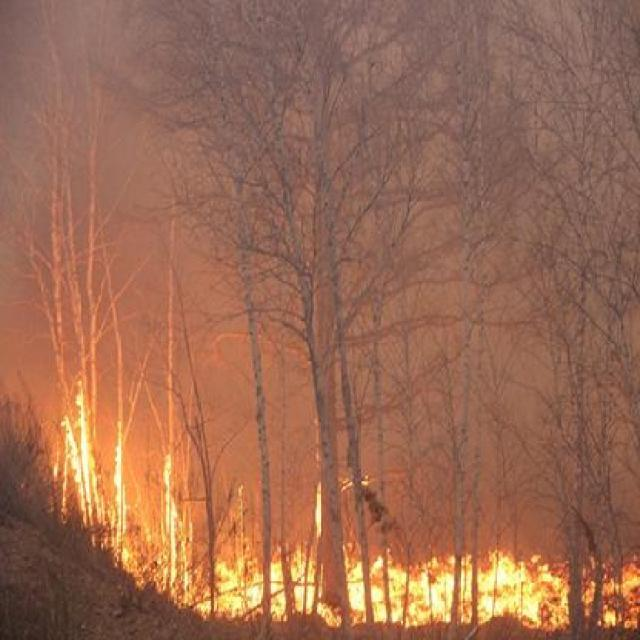Fire: (202, 527, 640, 640), (52, 368, 198, 620)
